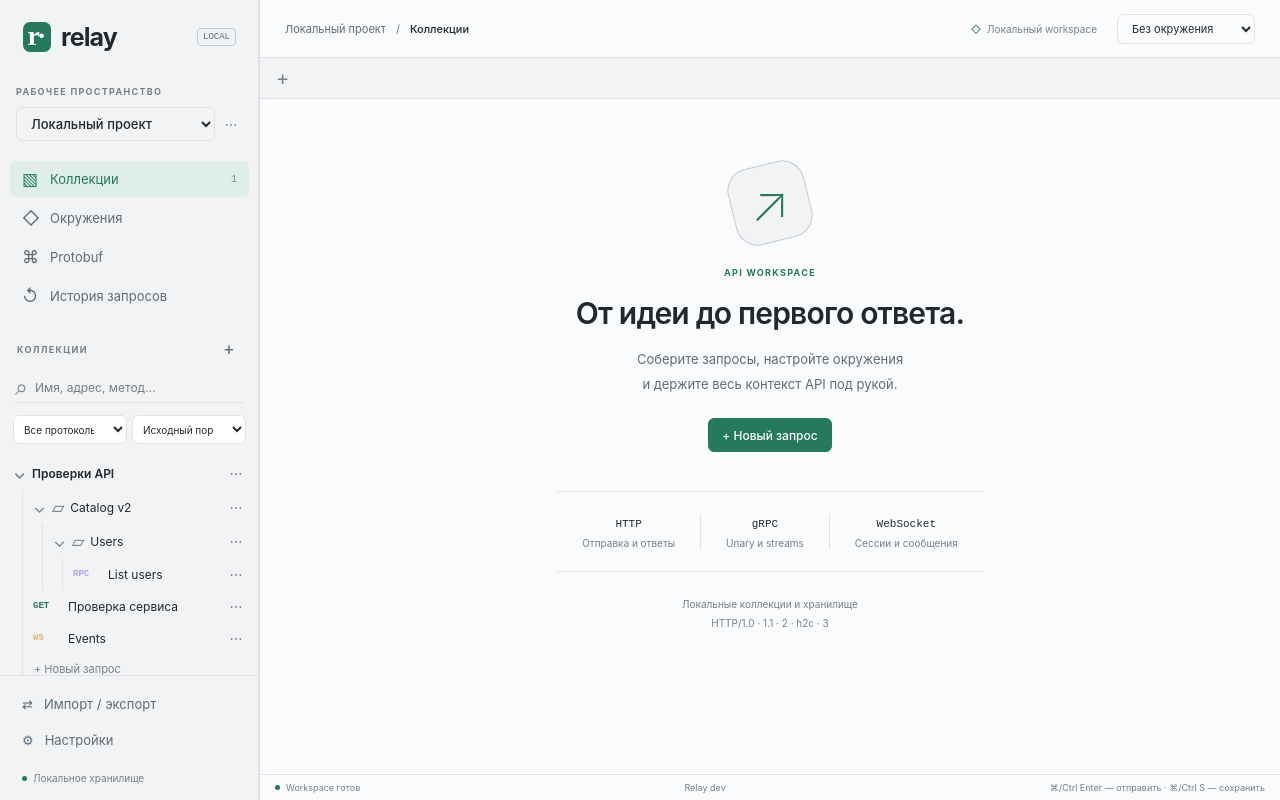
Test: workspace navigation and recent results › searches addresses, methods and folder paths while preserving matching ancestors and workspace scope
The image size is (1280, 800).
Click the button "⌄ Проверки API". click: (116, 473)
box: [9,456,222,490]
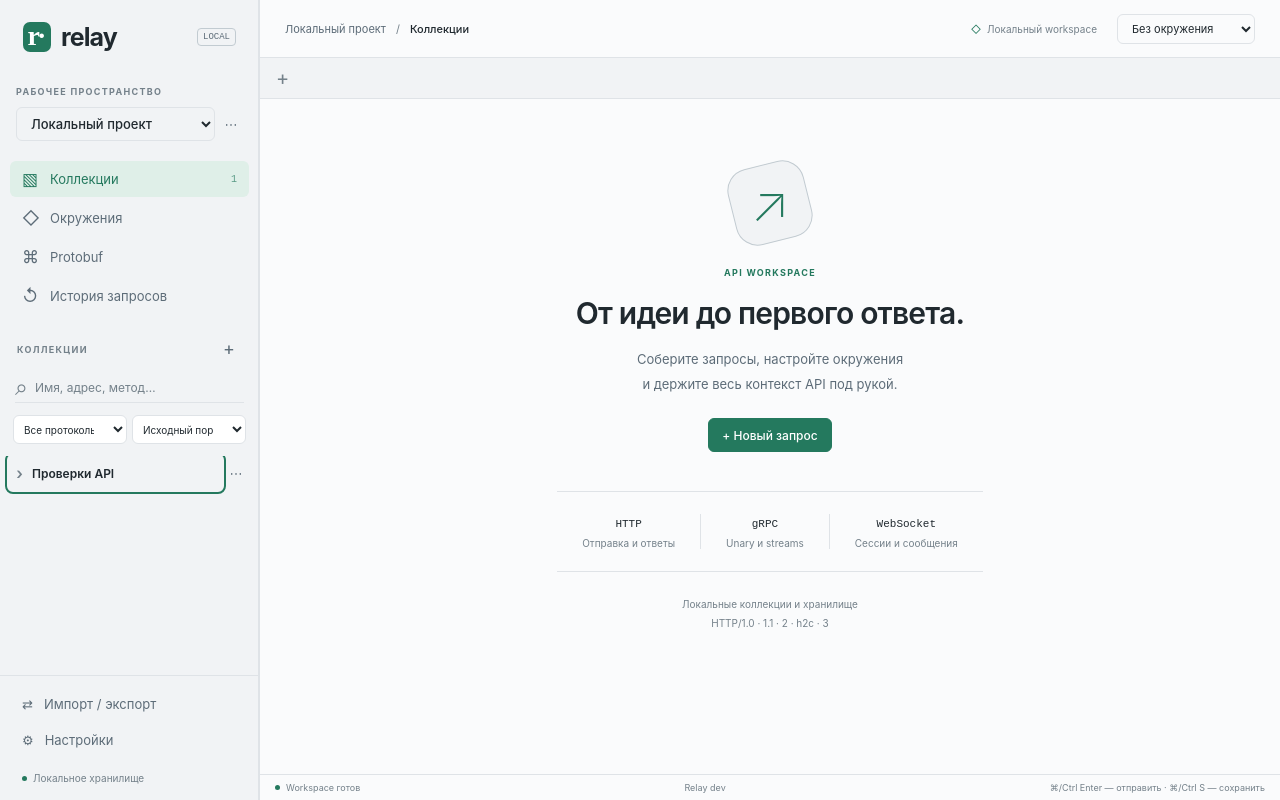
Type "catalog.grpc.test" into the search field named "Поиск запросов". click: (139, 387)
box: [35,372,244,402]
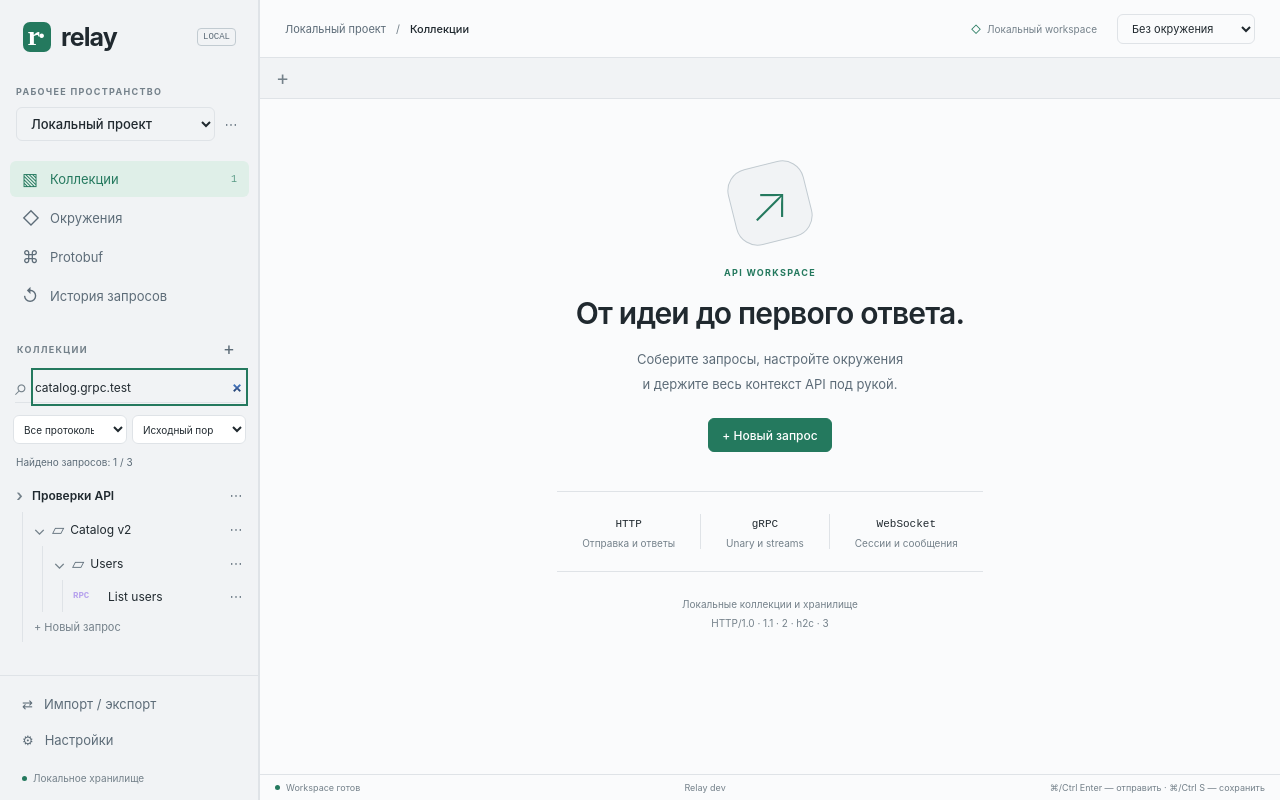
Expected: the button "RPC List users" is shown, [69,582,222,610]
Expected: the button "⌄ ▱ Catalog v2" is shown, [29,512,222,546]
Expected: the button "⌄ ▱ Users" is shown, [49,546,222,580]
Replace the text in the search field named "Поиск запросов" with "v2 List". click: (139, 387)
box: [35,372,244,402]
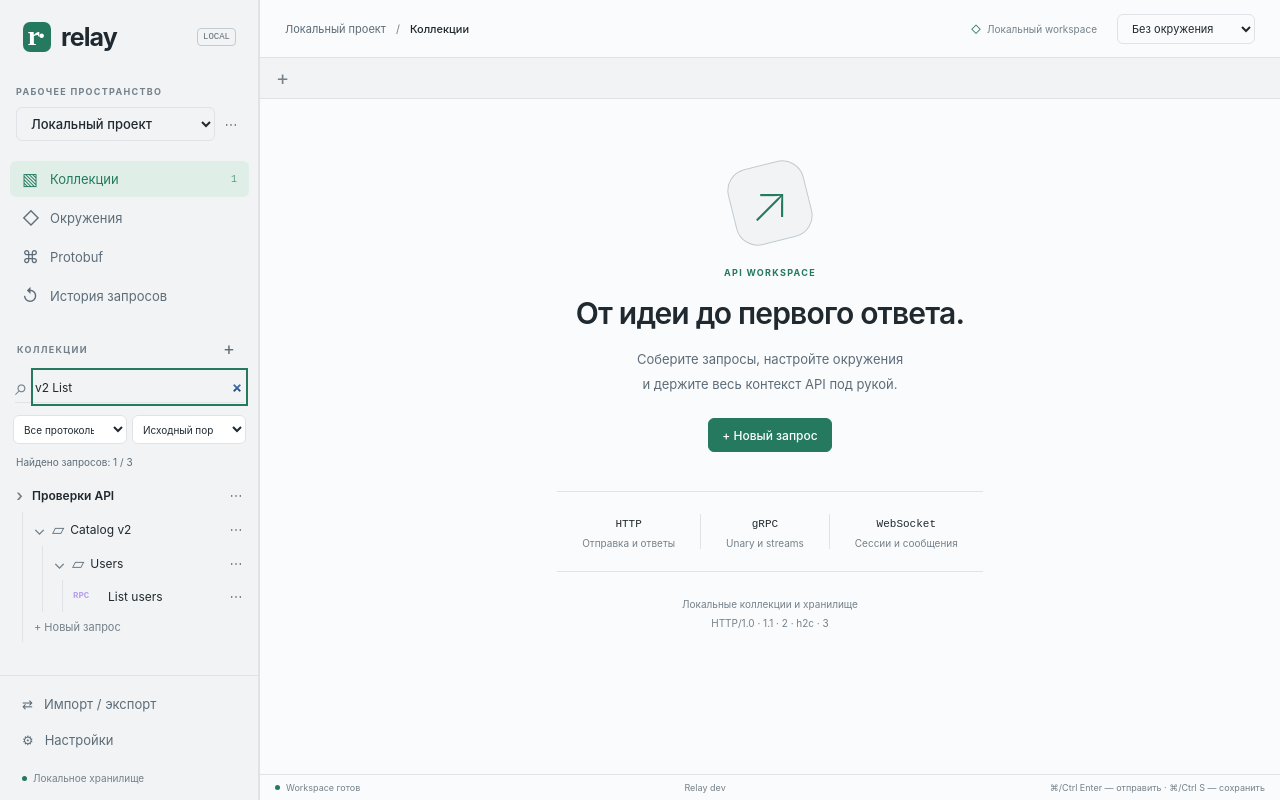
Expected: the button "RPC List users" is shown, [69,582,222,610]
Clear the search field named "Поиск запросов". click: (139, 387)
box: [35,372,244,402]
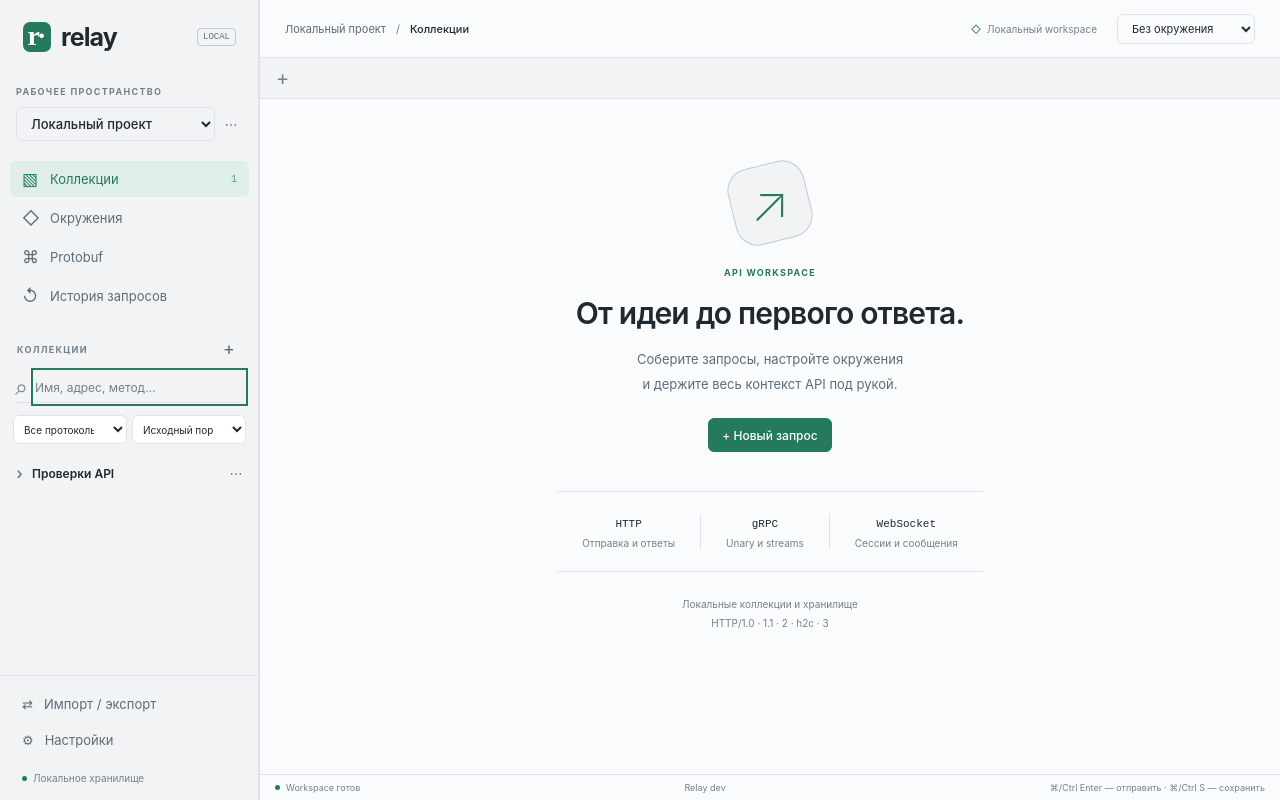
Select "WebSocket" in the dropdown named "Протокол запросов". click: (70, 430)
box: [13,415,127,444]
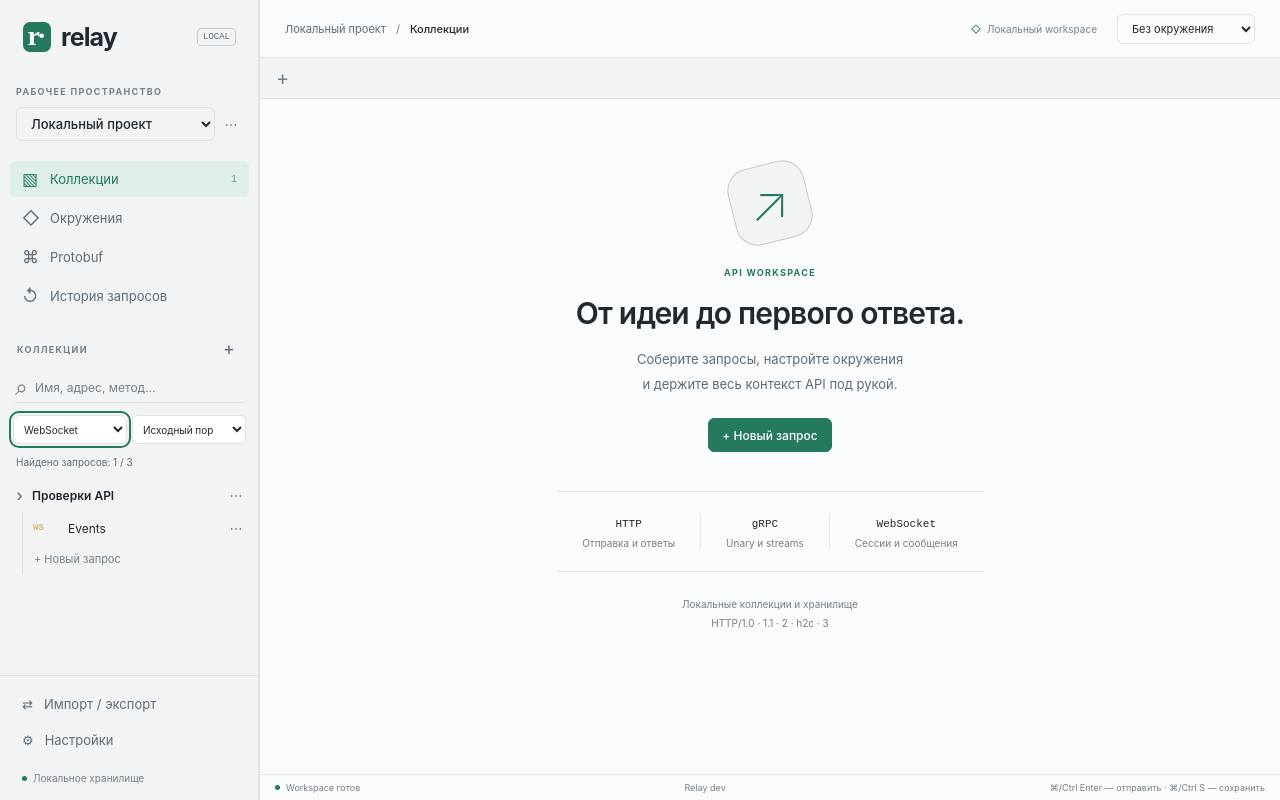
Expected: the button "RPC List users" is not shown
Expected: the button "WS Events" is shown, [29,514,222,542]
Expected: the text "Найдено запросов: 1 / 3" is shown, [16,456,133,468]
